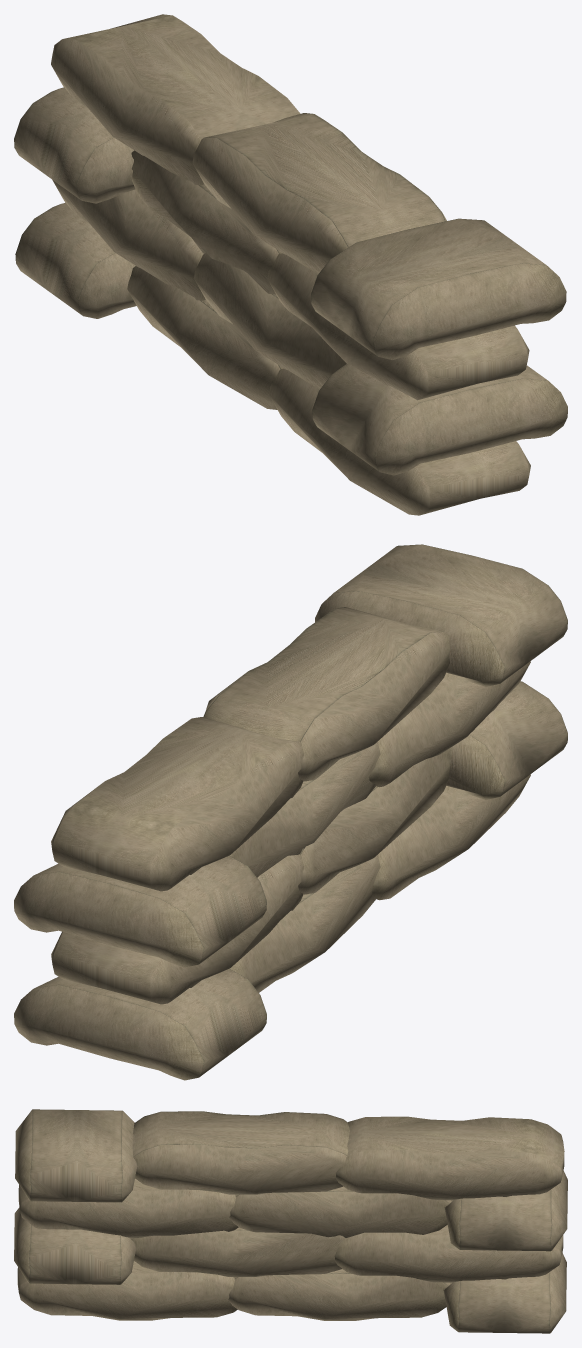
File: sack_1.fbx
3 renders of one model, top to bottom at view 1: azimuth 30°, elevation 25°; view 2: azimuth 150°, elevation 25°; view 3: azimuth 270°, elevation 25°, orthographic. The views are drawn at different scales.
Parts seen in each view (by area): view 1: sack_1; view 2: sack_1; view 3: sack_1.
Boxes of the visible parts, <box> form: sack_1: <box>14,14,567,515</box>; sack_1: <box>14,544,567,1080</box>; sack_1: <box>14,1109,567,1333</box>.
Size of the model in its own units: 74.16 by 88.98 by 252.
